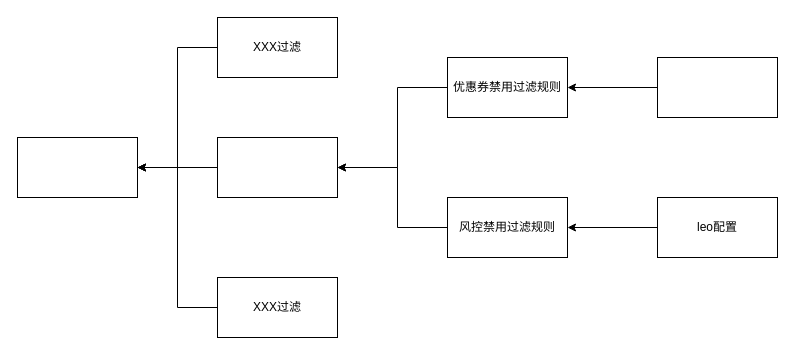
This 795x355 diagram has some shape labels left out. The shapes that lost their labels are listed below. From the top down, each one's box as (x1, y1, x2, y2) in pixels, then its label:
(656, 56, 778, 118): 优惠券接口
(16, 136, 138, 198): 商品过滤
(216, 136, 338, 198): 特殊资源位过滤
